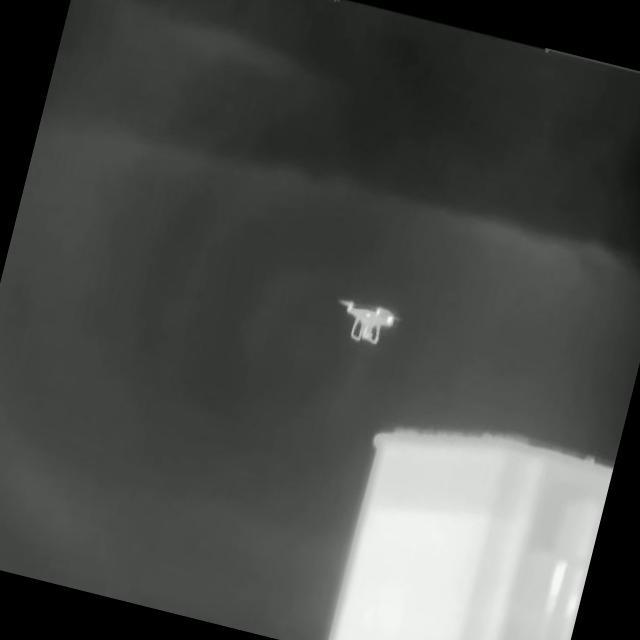DRONE: (332, 294, 403, 346)
